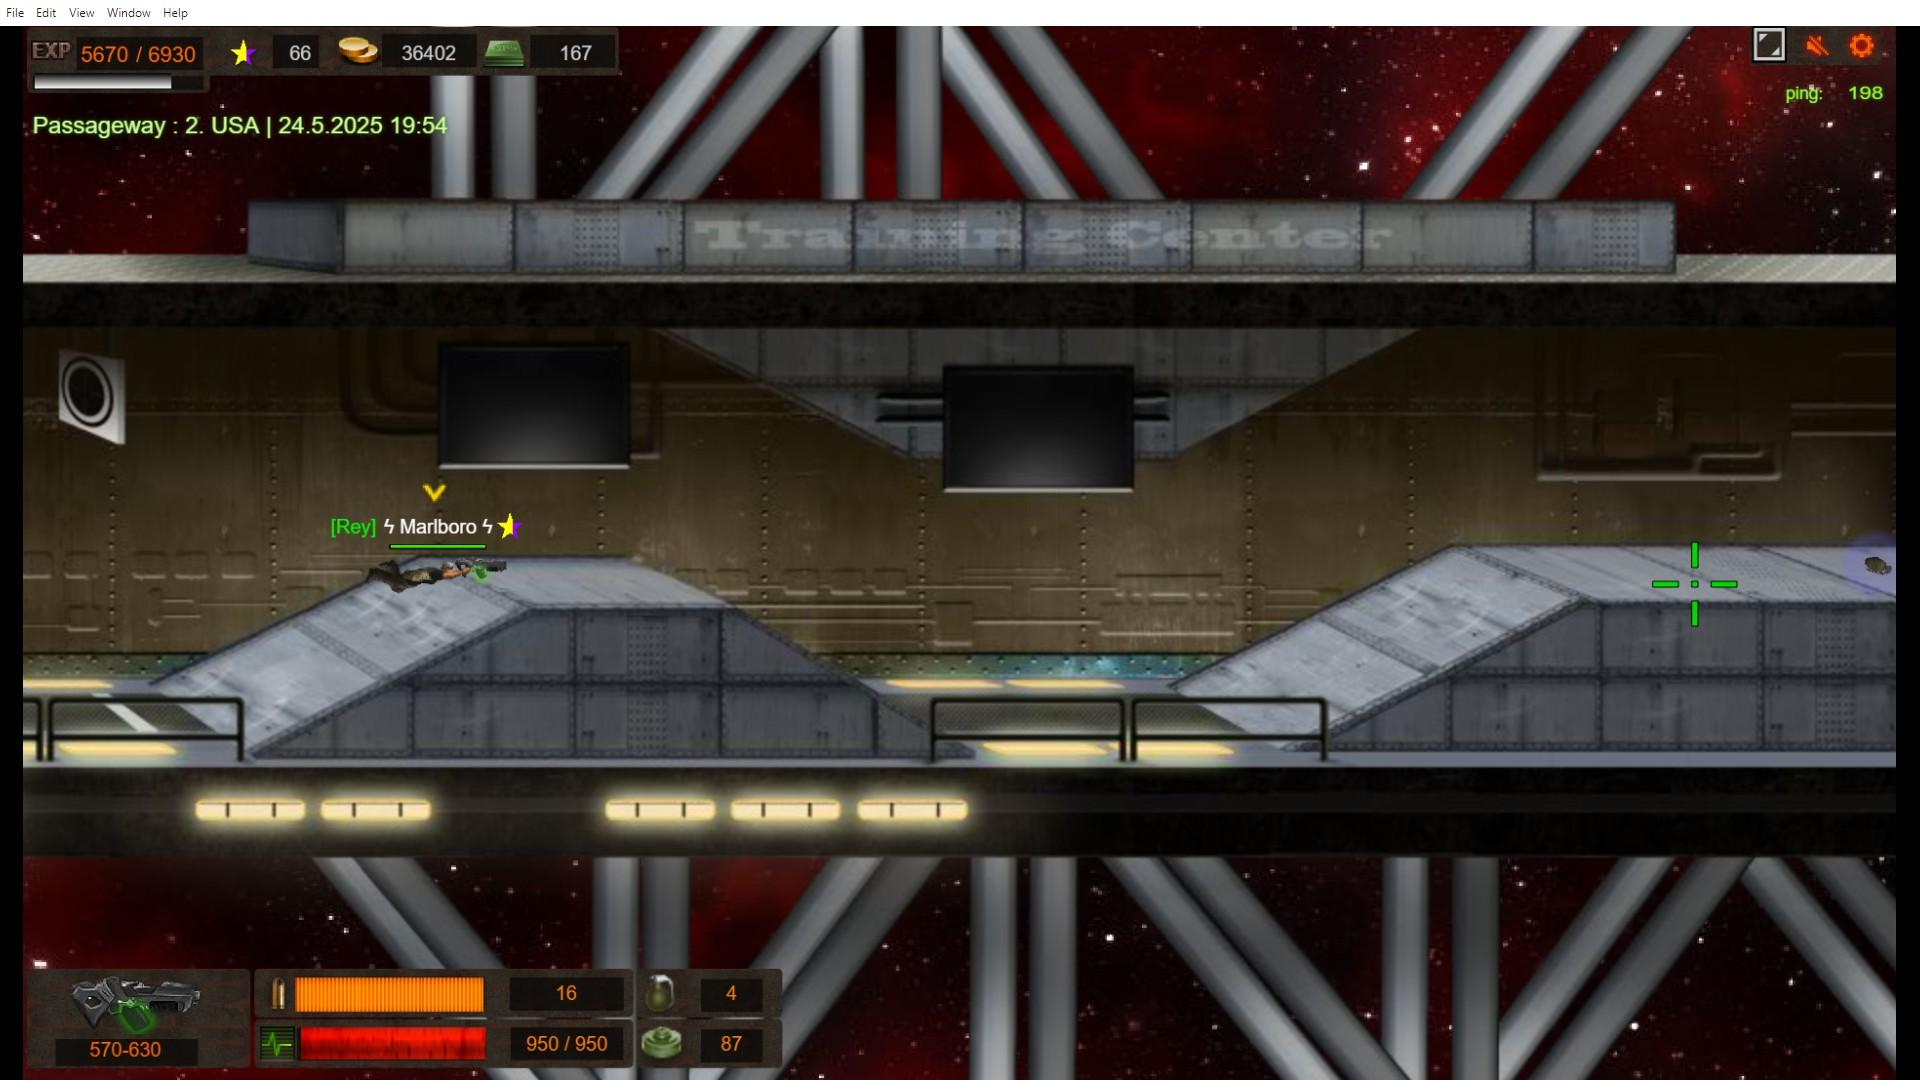enemy: (368, 558, 468, 593)
